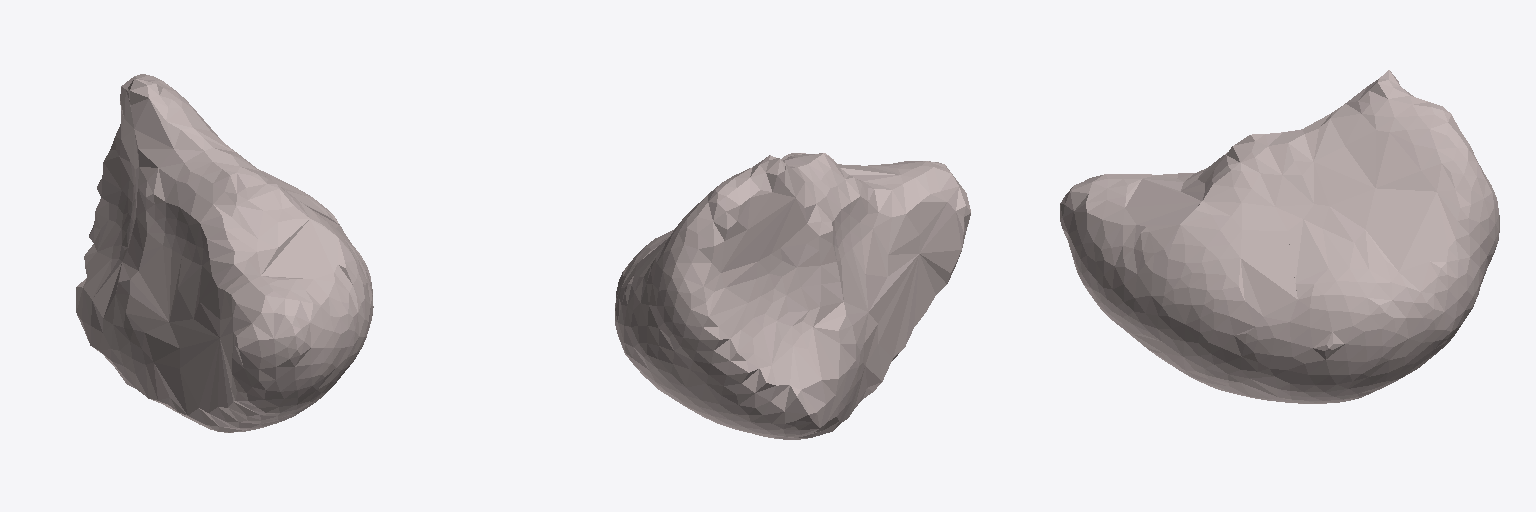
File: Model_10407_LH__Dorsal_cortex_of_the_inferior_colliculus_(DCIC).obj
The picture shows the model from 3 angles: view 1: azimuth 30°, elevation 25°; view 2: azimuth 150°, elevation 25°; view 3: azimuth 270°, elevation 25°; orthographic projection.
Size of the model in its own units: 1.25 by 1.64 by 2.13.